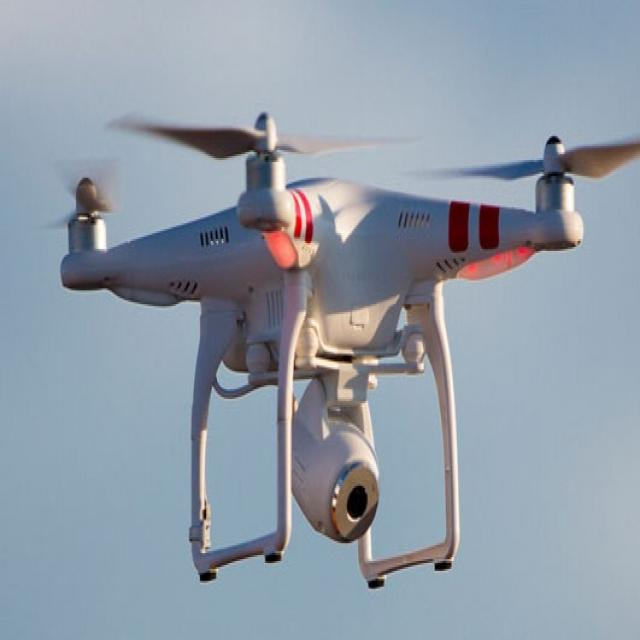drone: (17, 65, 640, 612)
